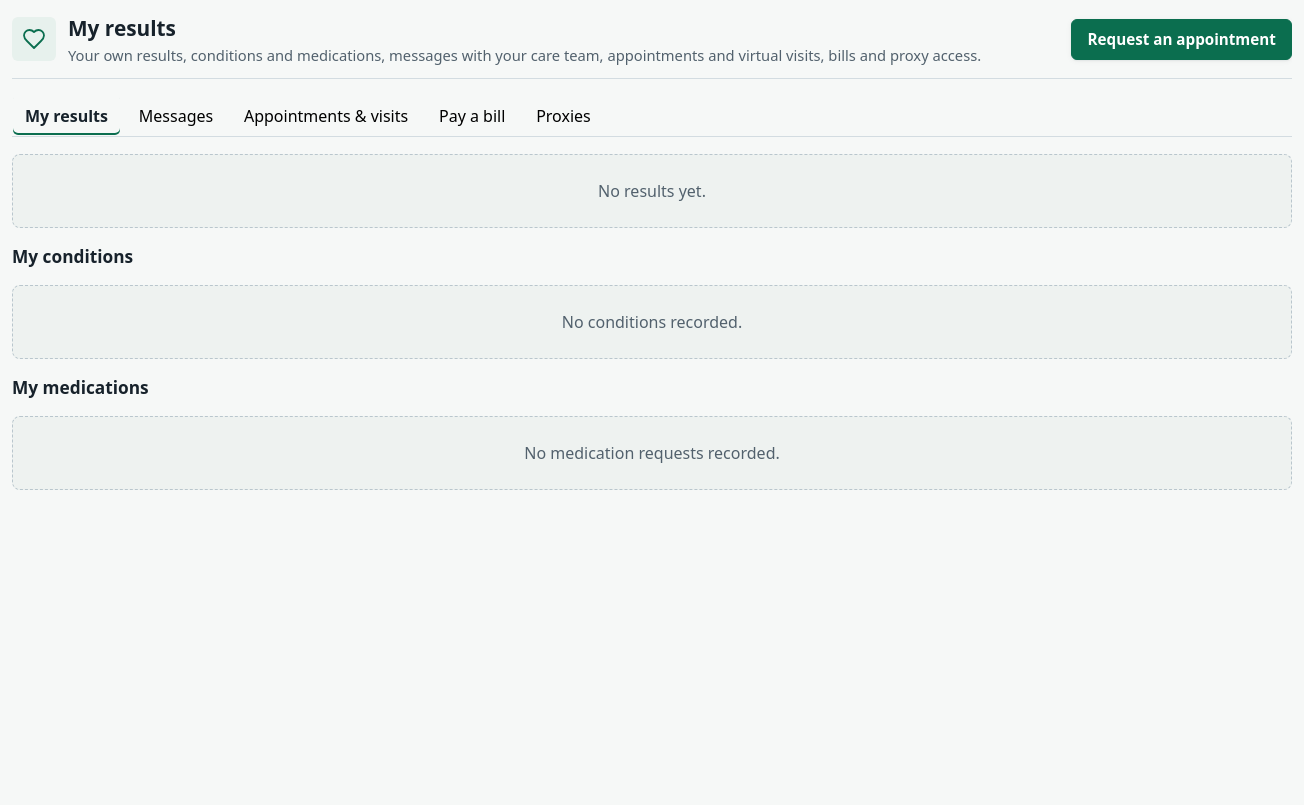
Scenario: PortalPage (Phase 9 sections) › telehealth workspace shows the configured join link and the honest disclaimer
Click the tab "Appointments & visits".
click(326, 116)  # box x1=231 y1=95 x2=421 y2=136
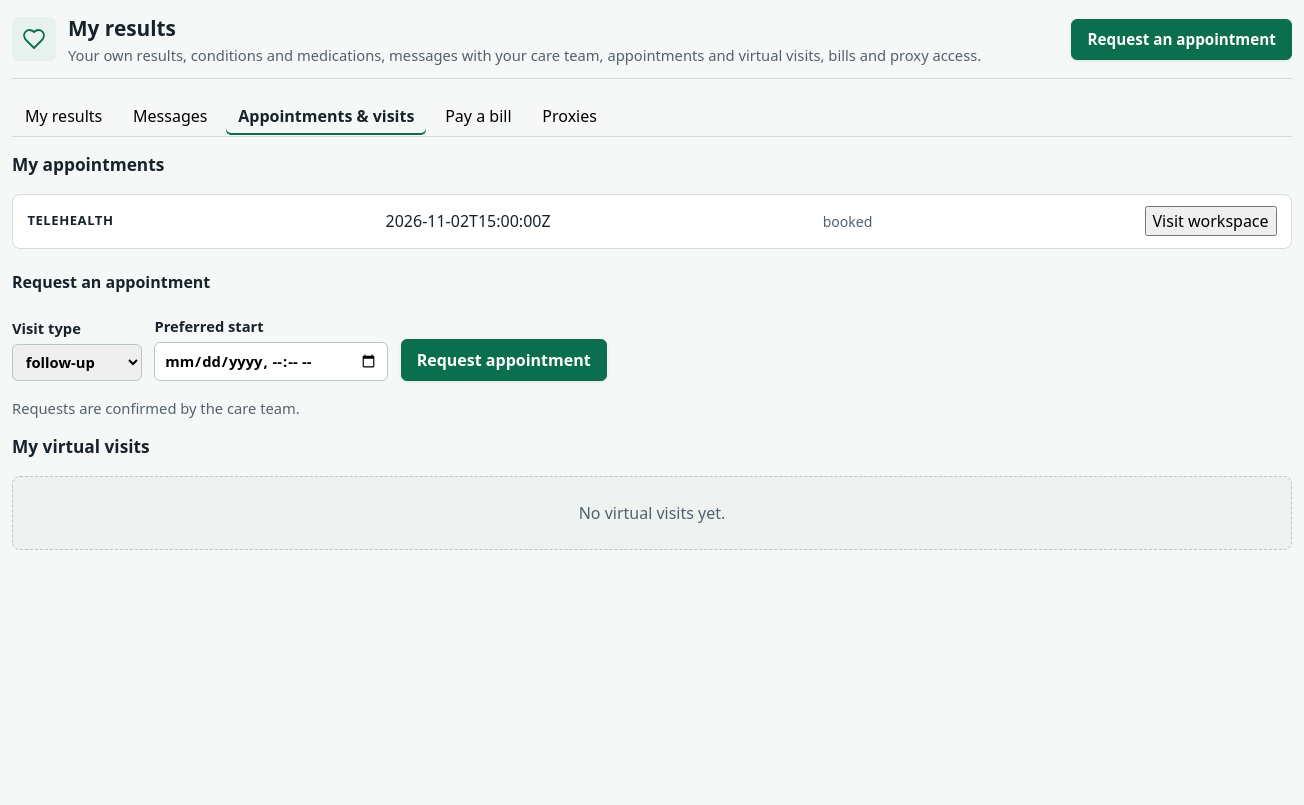
Click the button "Visit workspace".
click(1211, 221)  # box x1=1144 y1=206 x2=1277 y2=236
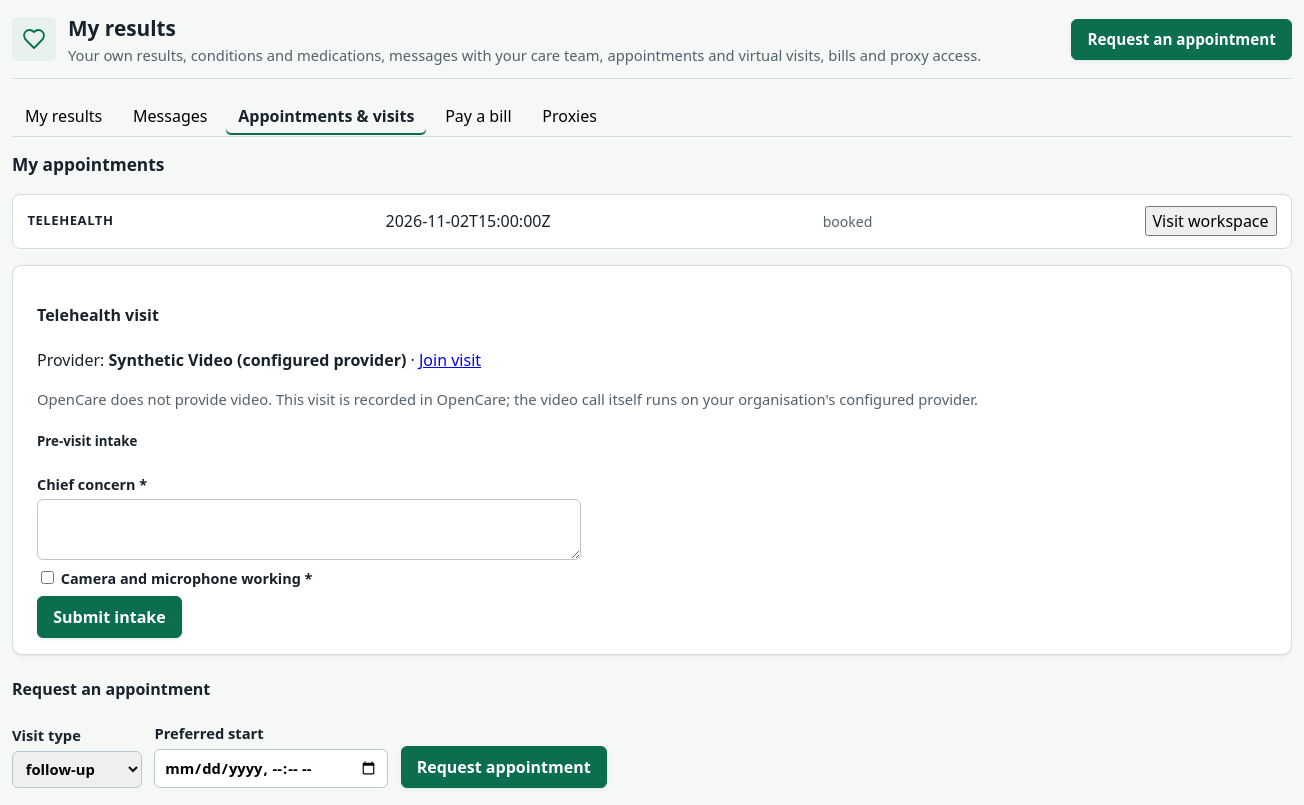
Now the text "OpenCare does not provide video" is shown, box x1=37 y1=389 x2=978 y2=409
Now the text "Synthetic Video (configured provider)" is shown, box x1=108 y1=349 x2=406 y2=371
Now the text "Chief concern *" is shown, box x1=37 y1=475 x2=147 y2=494
